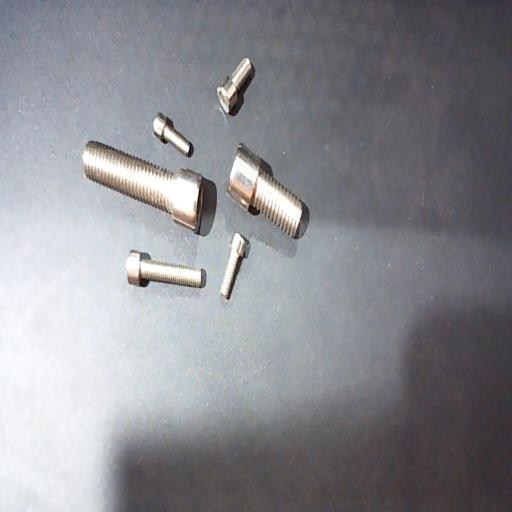screw: (82, 140, 205, 235), (226, 142, 302, 240), (127, 250, 206, 288), (217, 56, 253, 114), (220, 232, 250, 301), (153, 112, 194, 157)
